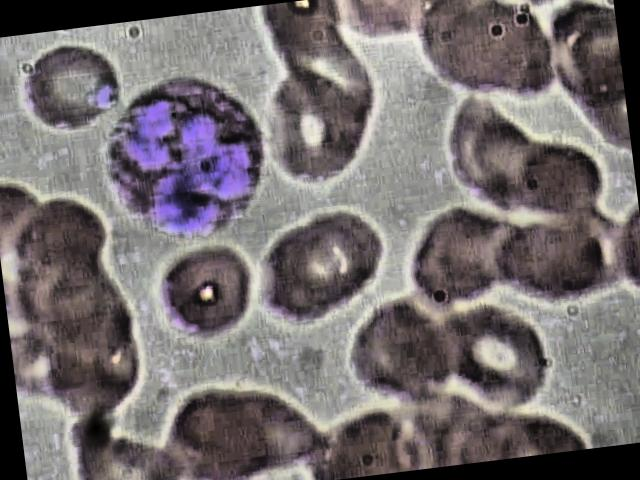RBC: (433, 294, 560, 418), (258, 64, 372, 200), (339, 296, 446, 416), (488, 208, 612, 310), (448, 0, 564, 107), (282, 204, 390, 317), (246, 223, 353, 334), (157, 384, 276, 480), (17, 38, 125, 142), (154, 240, 262, 342), (506, 138, 606, 228)
WBC: (100, 66, 276, 253)
